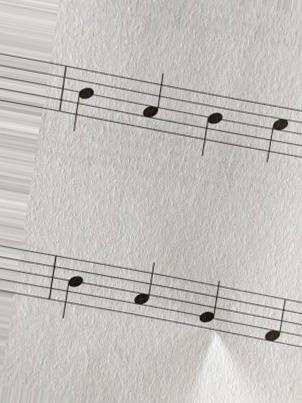note: (69, 66, 98, 139), (198, 92, 226, 160), (58, 257, 86, 324), (262, 105, 290, 169), (140, 72, 166, 140), (130, 261, 157, 326), (260, 291, 288, 350), (196, 277, 221, 338)
